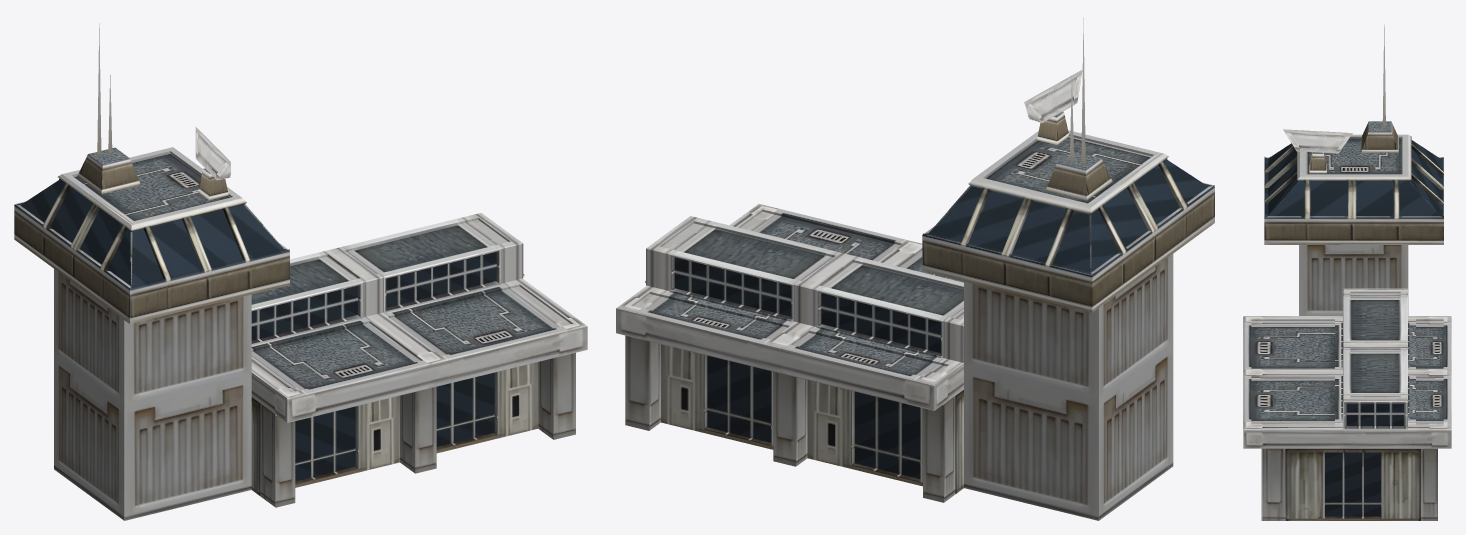
Rendered from s_gatecontrol_cad.glb.
3 views of the same model, side by side, from view 1: azimuth 30°, elevation 25°; view 2: azimuth 150°, elevation 25°; view 3: azimuth 270°, elevation 25° (orthographic). The views are drawn at different scales.
Parts seen in each view (by area): view 1: S_GateControl, Base01; view 2: S_GateControl, Base01, Base, LOS_Antennae; view 3: S_GateControl, Base01, Base.
Part boxes in pixels (box(x1,y1,x2,y2)): S_GateControl: box(14, 147, 587, 520); Base01: box(195, 127, 230, 180); S_GateControl: box(616, 130, 1214, 520); Base01: box(1024, 70, 1082, 122); Base: box(1037, 111, 1069, 144); LOS_Antennae: box(1069, 17, 1085, 164); S_GateControl: box(1243, 121, 1451, 520); Base01: box(1283, 129, 1352, 153); Base: box(1309, 152, 1326, 173).
Size of the model in its own units: 22.28 by 21.94 by 11.62.
2 materials, 2 textured.
